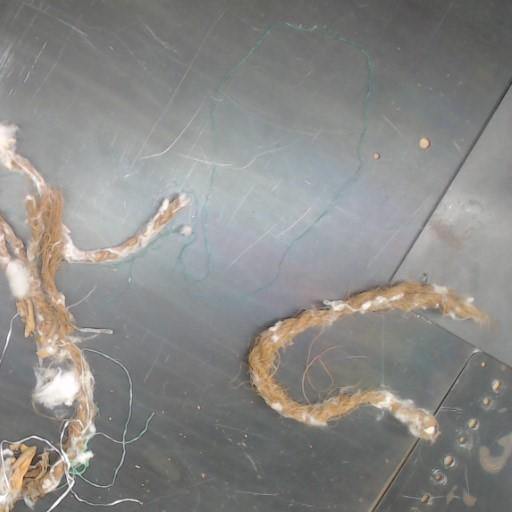conveyor belt: (0, 271, 58, 439), (0, 167, 30, 240)
jute: (0, 123, 188, 511), (248, 282, 483, 440)
thread: (209, 21, 372, 295), (150, 162, 220, 281)
